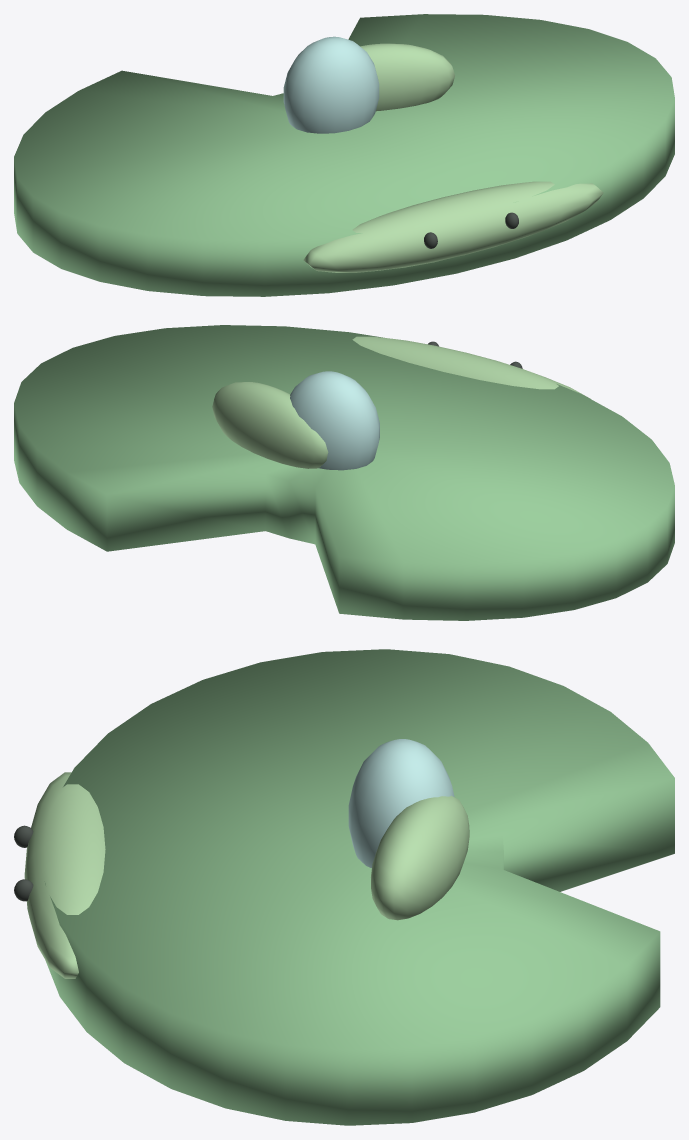
Rendered from skimming-lily.glb.
3 renders of one model, top to bottom at view 1: azimuth 30°, elevation 25°; view 2: azimuth 150°, elevation 25°; view 3: azimuth 270°, elevation 25°, orthographic. The views are drawn at different scales.
Visible parts, largest first — view 1: LilyPad, PadFrontLip, DewDrop, TinyLeaf; view 2: LilyPad, TinyLeaf, DewDrop, PadFrontLip; view 3: LilyPad, PadFrontLip, TinyLeaf, DewDrop.
Boxes of the visible parts, x1=… form: LilyPad: x1=14, y1=14, x2=674, y2=296; PadFrontLip: x1=303, y1=181, x2=603, y2=272; DewDrop: x1=283, y1=36, x2=379, y2=133; TinyLeaf: x1=360, y1=43, x2=454, y2=111; LilyPad: x1=14, y1=325, x2=674, y2=620; TinyLeaf: x1=212, y1=382, x2=328, y2=468; DewDrop: x1=290, y1=371, x2=379, y2=470; PadFrontLip: x1=352, y1=336, x2=590, y2=398; LilyPad: x1=44, y1=649, x2=674, y2=1125; PadFrontLip: x1=24, y1=772, x2=105, y2=978; TinyLeaf: x1=371, y1=795, x2=469, y2=920; DewDrop: x1=348, y1=739, x2=454, y2=868.
Bounding box in the file's own units: 1.08 × 0.2275 × 0.7518.
